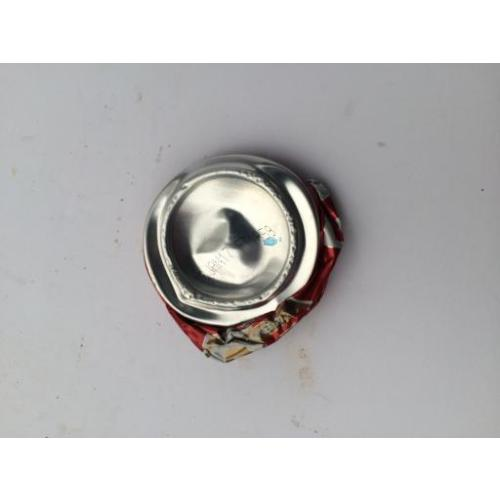metal: (147, 154, 341, 363)
